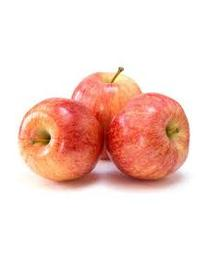apple: (17, 97, 105, 182), (106, 93, 190, 182), (71, 67, 143, 127)
